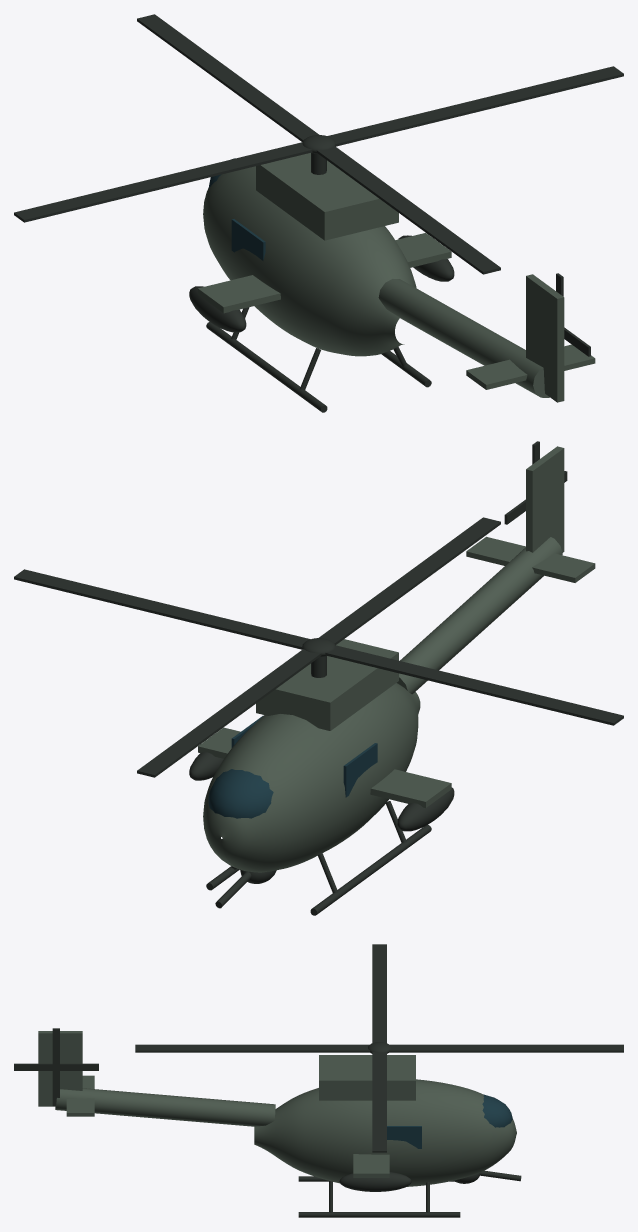
The model's file is helicopter.glb.
3 views of the same model, one above another, from view 1: azimuth 30°, elevation 25°; view 2: azimuth 150°, elevation 25°; view 3: azimuth 270°, elevation 25° (orthographic). The views are drawn at different scales.
Visible parts, largest first — view 1: HeliBodyAssembly, RotorHubAssembly, TailBoom, RotorMastAssembly, RocketPodAssembly, CockpitWindowAssembly; view 2: HeliBodyAssembly, RotorHubAssembly, TailBoom, CockpitWindowAssembly, RotorMastAssembly, RocketPodAssembly; view 3: HeliBodyAssembly, RotorHubAssembly, TailBoom, RotorMastAssembly, CockpitWindowAssembly, TailBladeAssembly, RocketPodAssembly.
Part boxes in pixels (left/top/right/bottom): HeliBodyAssembly: left=198, top=153, right=595, bottom=402; RotorHubAssembly: left=14, top=14, right=623, bottom=274; TailBoom: left=378, top=279, right=549, bottom=397; RotorMastAssembly: left=206, top=153, right=431, bottom=412; RocketPodAssembly: left=189, top=235, right=454, bottom=332; CockpitWindowAssembly: left=208, top=158, right=265, bottom=260; HeliBodyAssembly: left=198, top=446, right=595, bottom=872; RotorHubAssembly: left=14, top=517, right=623, bottom=777; TailBoom: left=397, top=537, right=562, bottom=694; CockpitWindowAssembly: left=208, top=715, right=377, bottom=818; RotorMastAssembly: left=206, top=656, right=431, bottom=915; RocketPodAssembly: left=189, top=752, right=454, bottom=883; HeliBodyAssembly: left=38, top=1031, right=516, bottom=1186; RotorHubAssembly: left=135, top=944, right=623, bottom=1152; TailBoom: left=55, top=1088, right=275, bottom=1126; RotorMastAssembly: left=298, top=1170, right=521, bottom=1217; CockpitWindowAssembly: left=387, top=1094, right=512, bottom=1148; TailBladeAssembly: left=14, top=1028, right=98, bottom=1106; RocketPodAssembly: left=339, top=1172, right=479, bottom=1191.
Bounding box in the file's own units: 12.1 × 4.77 × 15.1.
